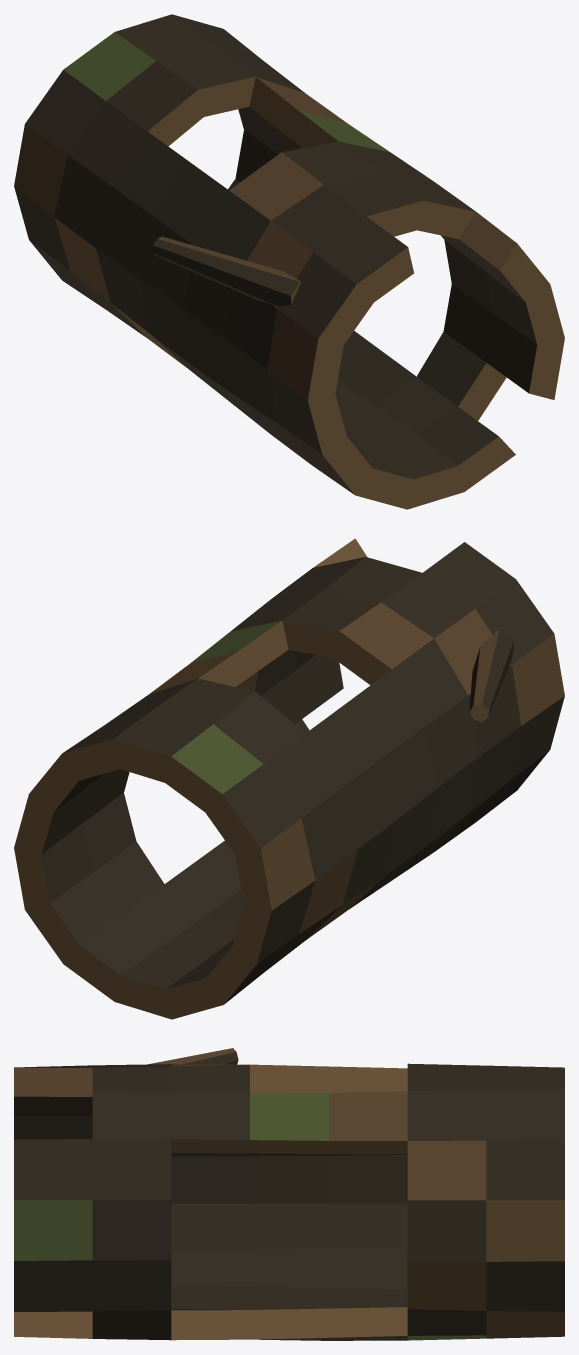
The model's file is wood_008a_split_decayed_log.glb.
3 renders of one model, top to bottom at view 1: azimuth 30°, elevation 25°; view 2: azimuth 150°, elevation 25°; view 3: azimuth 270°, elevation 25°, orthographic. The views are drawn at different scales.
Visible parts, largest first — view 1: wood_008a_split_decayed_log__mesh; view 2: wood_008a_split_decayed_log__mesh; view 3: wood_008a_split_decayed_log__mesh.
Boxes of the visible parts, <box> form: wood_008a_split_decayed_log__mesh: <box>14,14,564,509</box>; wood_008a_split_decayed_log__mesh: <box>14,538,564,1019</box>; wood_008a_split_decayed_log__mesh: <box>14,1048,564,1340</box>.
Size of the model in its own units: 4.53 by 3.87 by 7.7.
